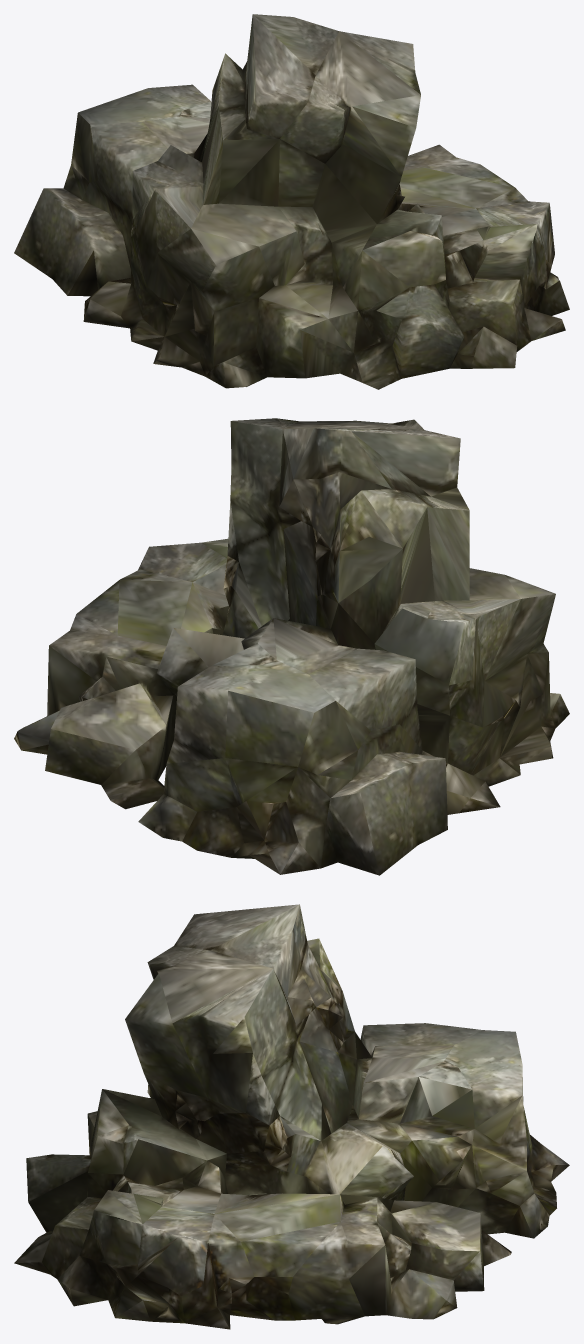
Rendered from rubble.glb.
3 renders of one model, top to bottom at view 1: azimuth 30°, elevation 25°; view 2: azimuth 150°, elevation 25°; view 3: azimuth 270°, elevation 25°, orthographic. The views are drawn at different scales.
Parts seen in each view (by area): view 1: tripo_node_cd8743b5-a3bf-4058-880a-04174f408488; view 2: tripo_node_cd8743b5-a3bf-4058-880a-04174f408488; view 3: tripo_node_cd8743b5-a3bf-4058-880a-04174f408488.
Part boxes in pixels (left/top/right/bottom): tripo_node_cd8743b5-a3bf-4058-880a-04174f408488: left=14, top=14, right=569, bottom=389; tripo_node_cd8743b5-a3bf-4058-880a-04174f408488: left=14, top=418, right=569, bottom=875; tripo_node_cd8743b5-a3bf-4058-880a-04174f408488: left=14, top=904, right=569, bottom=1329.
Bounding box in the file's own units: 0.8625 × 0.5849 × 0.9874.
Materials: 1 (1 with a texture image).
